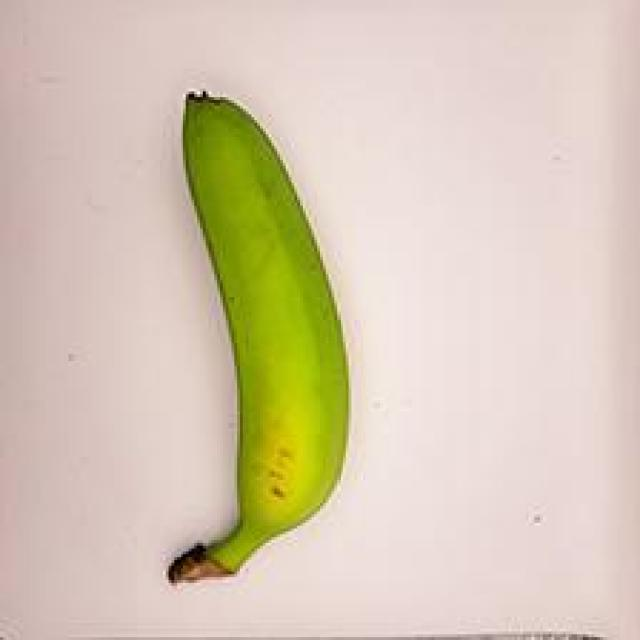Unripe: (126, 41, 367, 610)
